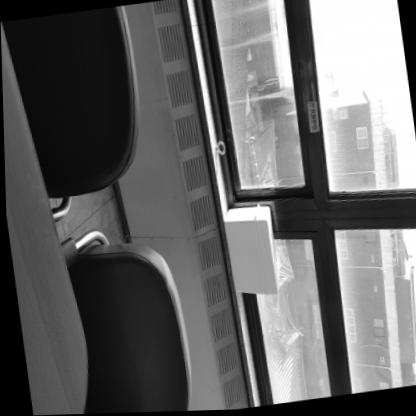DDL: (220, 201, 281, 301)
